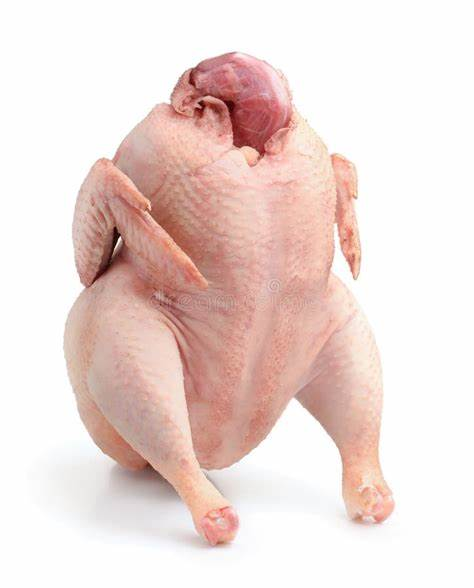Turkey: (56, 47, 403, 561)
